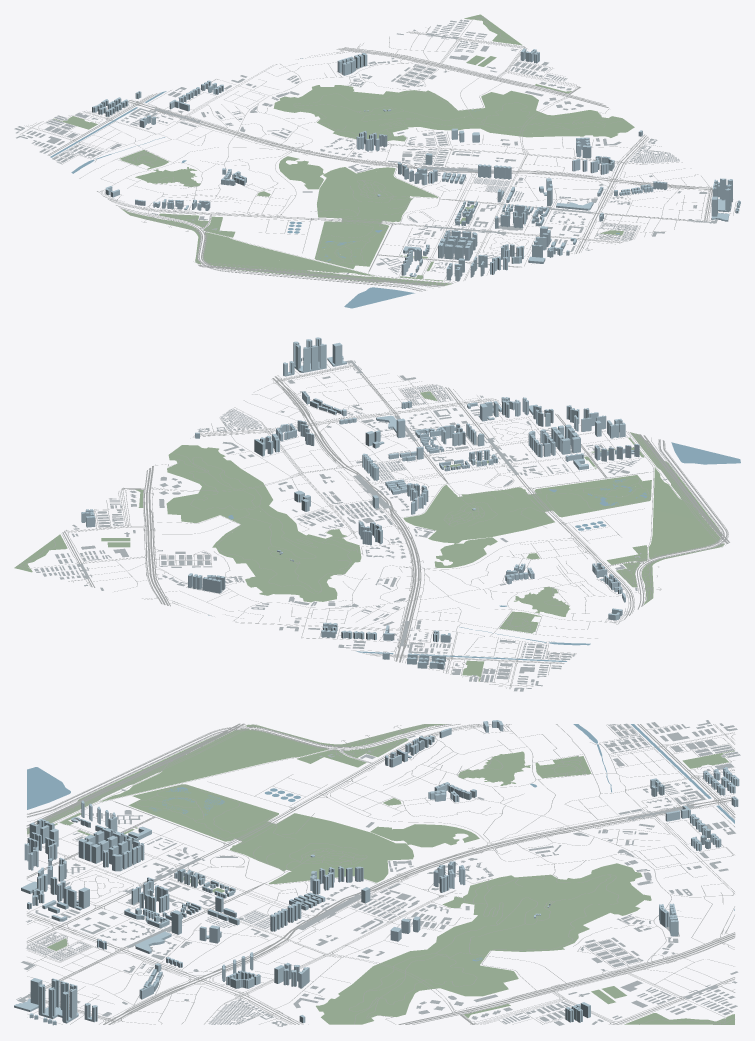
File: overview-known--5_1.glb
3 renders of one model, top to bottom at view 1: azimuth 30°, elevation 25°; view 2: azimuth 150°, elevation 25°; view 3: azimuth 270°, elevation 25°, orthographic. The views are drawn at different scales.
Bounding box in the file's own units: 4086 × 179 × 4086.
